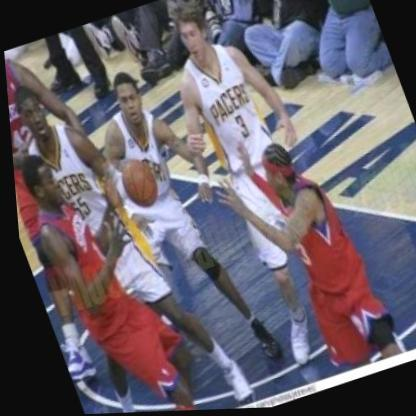basketball: (106, 151, 165, 214)
